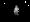person: (14, 5, 21, 17)
